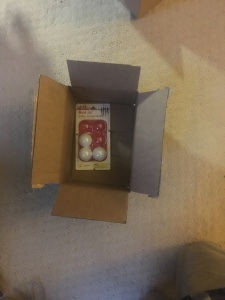innerbox: (68, 91, 130, 189)
outerbox: (33, 61, 165, 225)
product: (76, 103, 111, 171)
